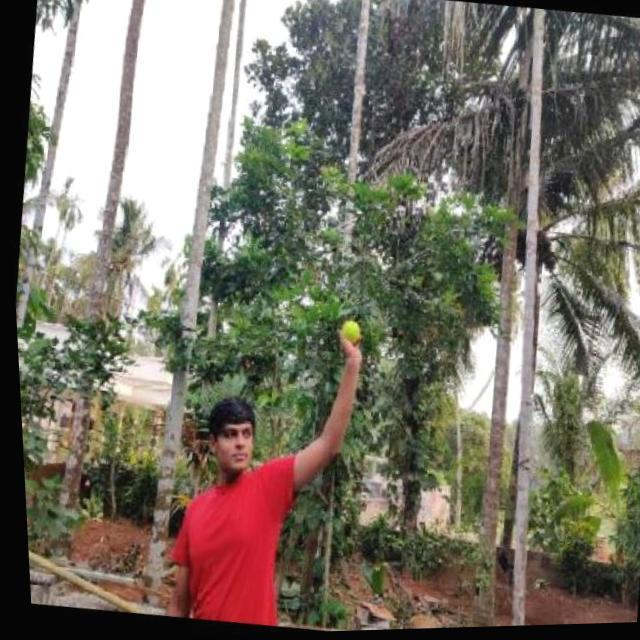-: (323, 316, 368, 361)
